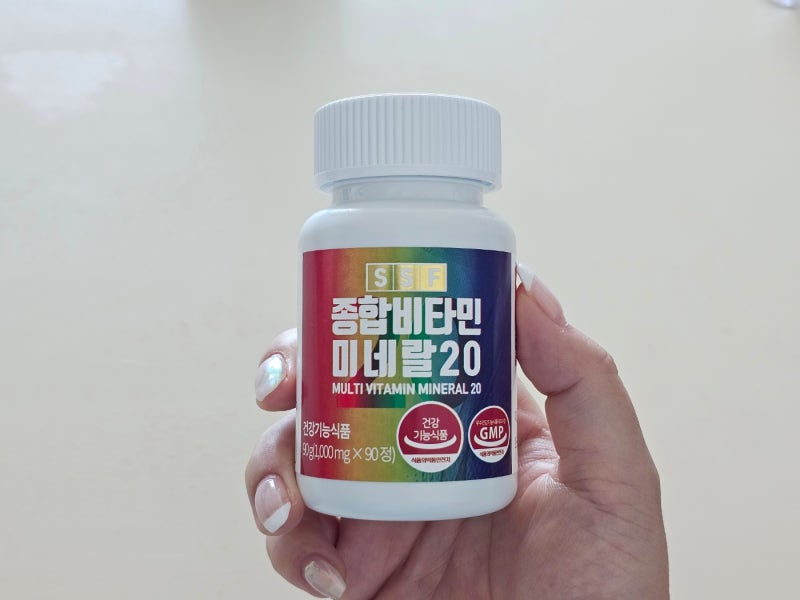supplement_label: (285, 241, 531, 491)
